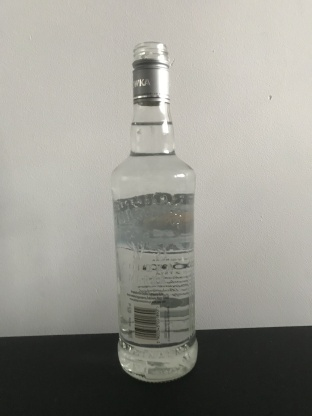nakretka: (130, 39, 171, 105)
